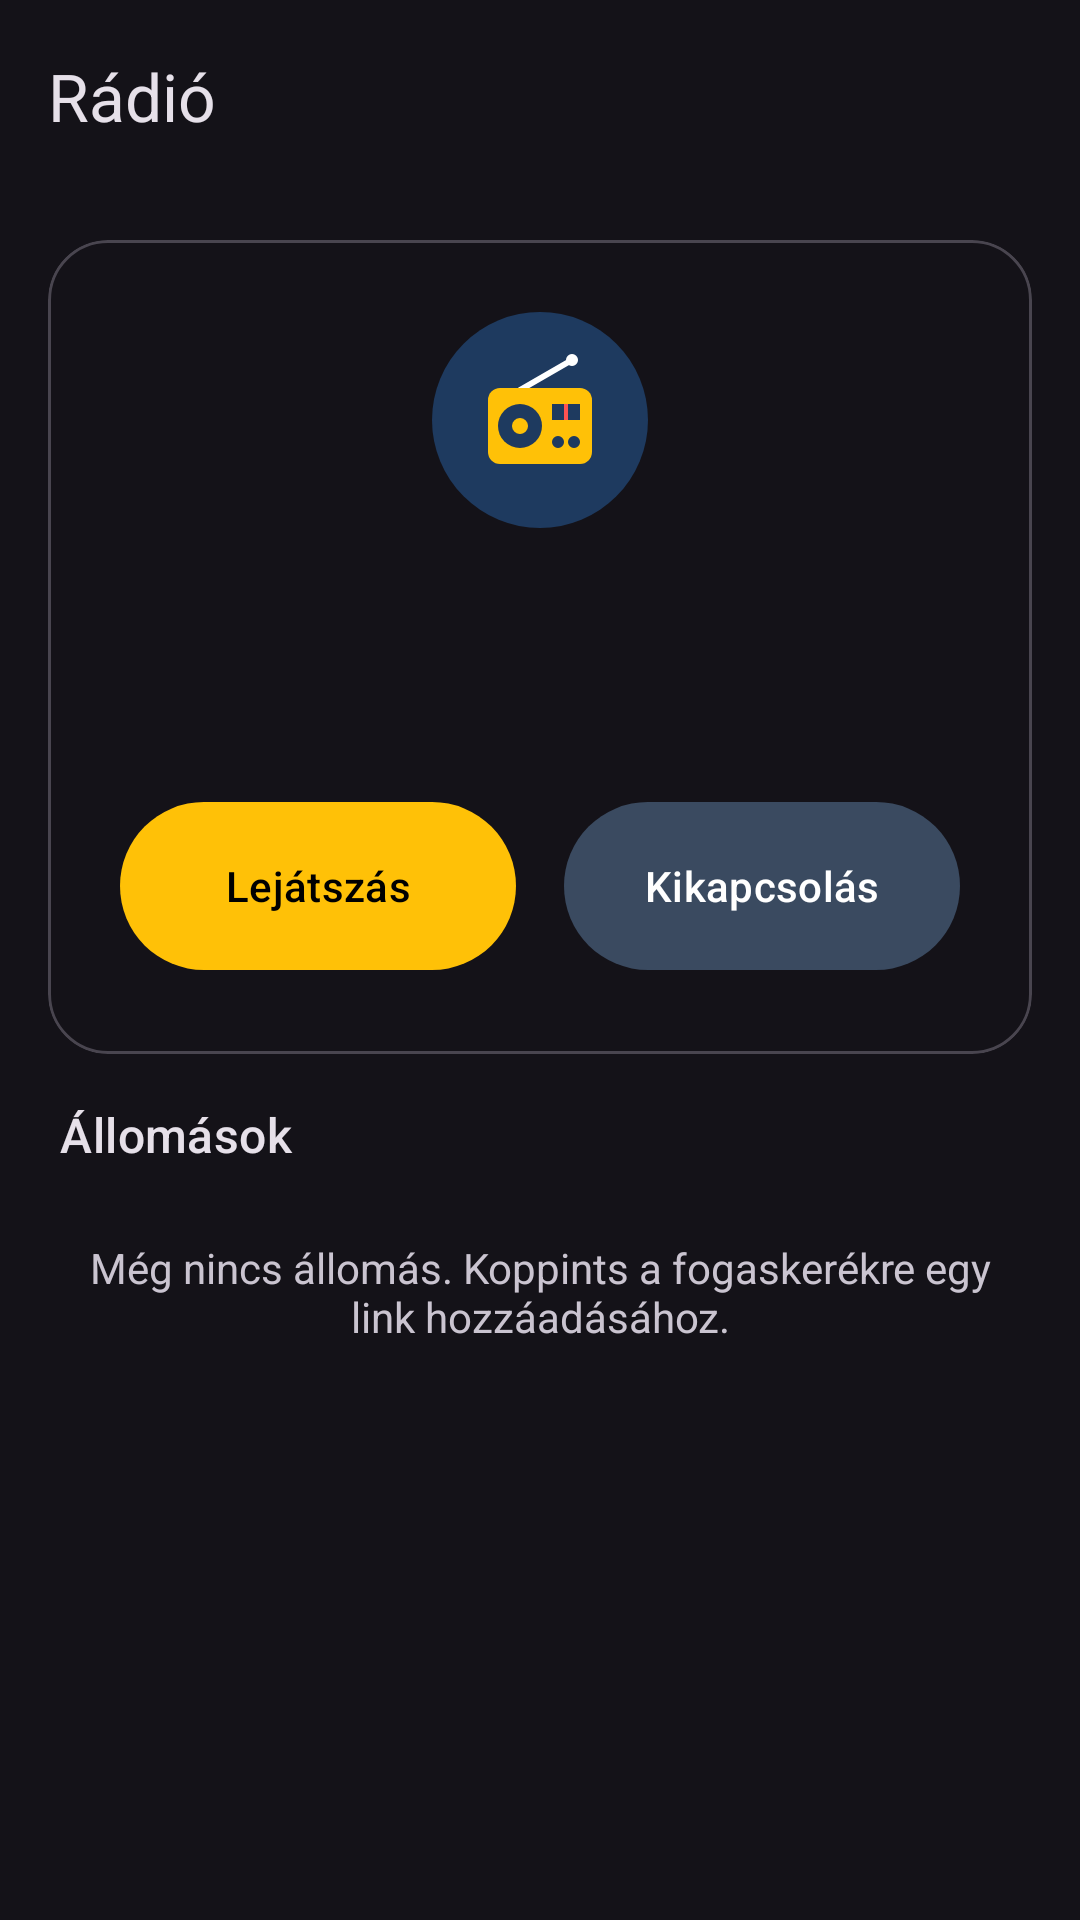

Icons on this 1080x1920 Android screen, each with the point to tap as (x,y):
radio: (540,420)
